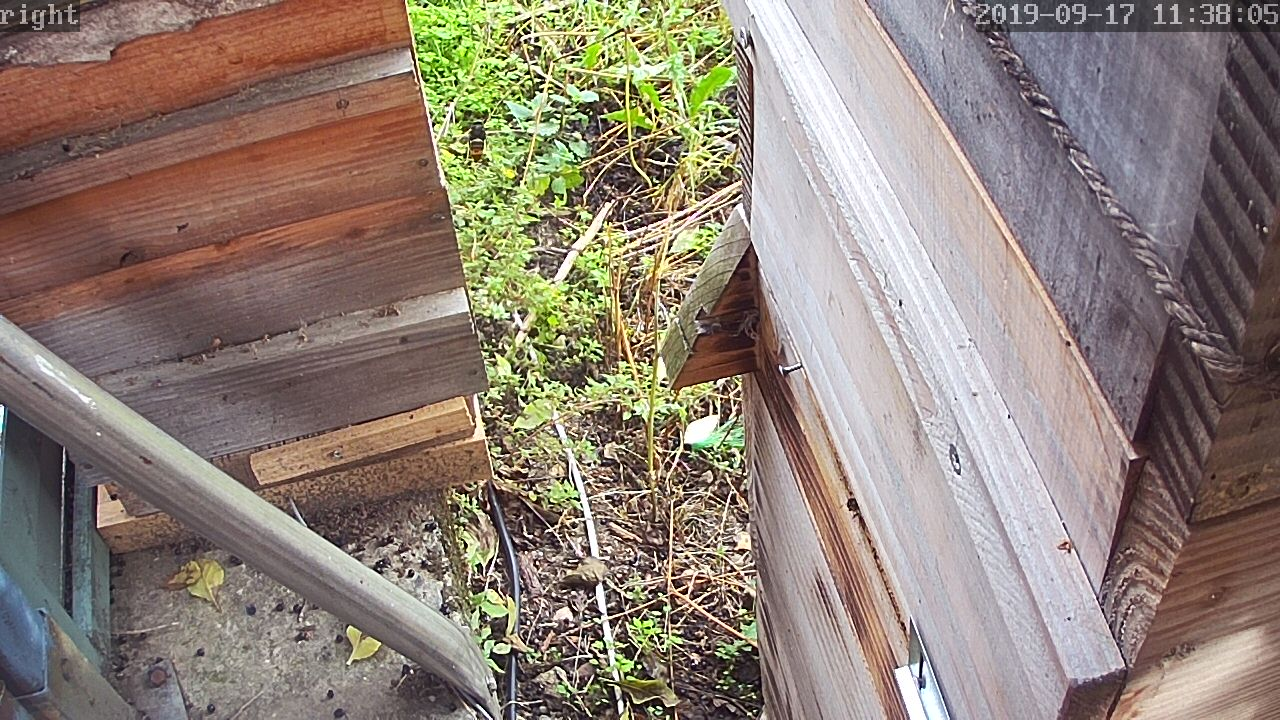hornet: (460, 118, 491, 166)
